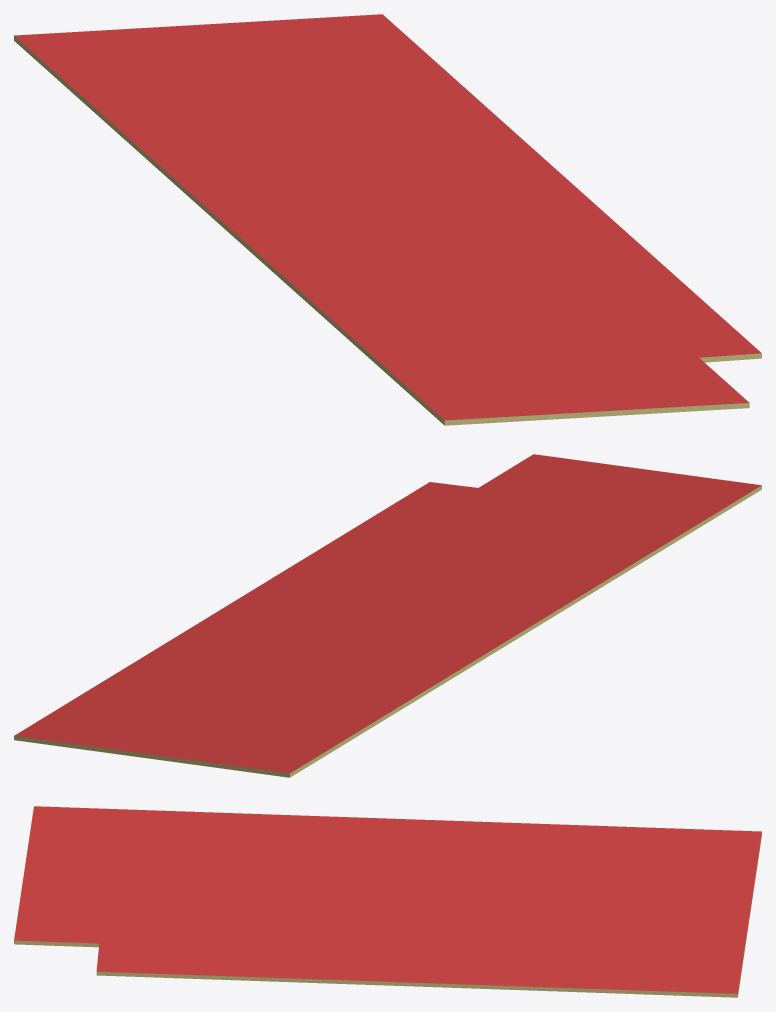
3 views of the same model, one above another, from view 1: azimuth 30°, elevation 25°; view 2: azimuth 150°, elevation 25°; view 3: azimuth 270°, elevation 25° (orthographic). The views are drawn at different scales.
Size of the model in its own units: 8.43 by 17.8 by 1.1.
